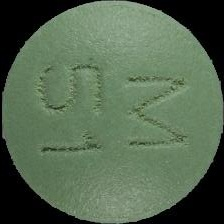0378-2625: (0, 0, 224, 224)
